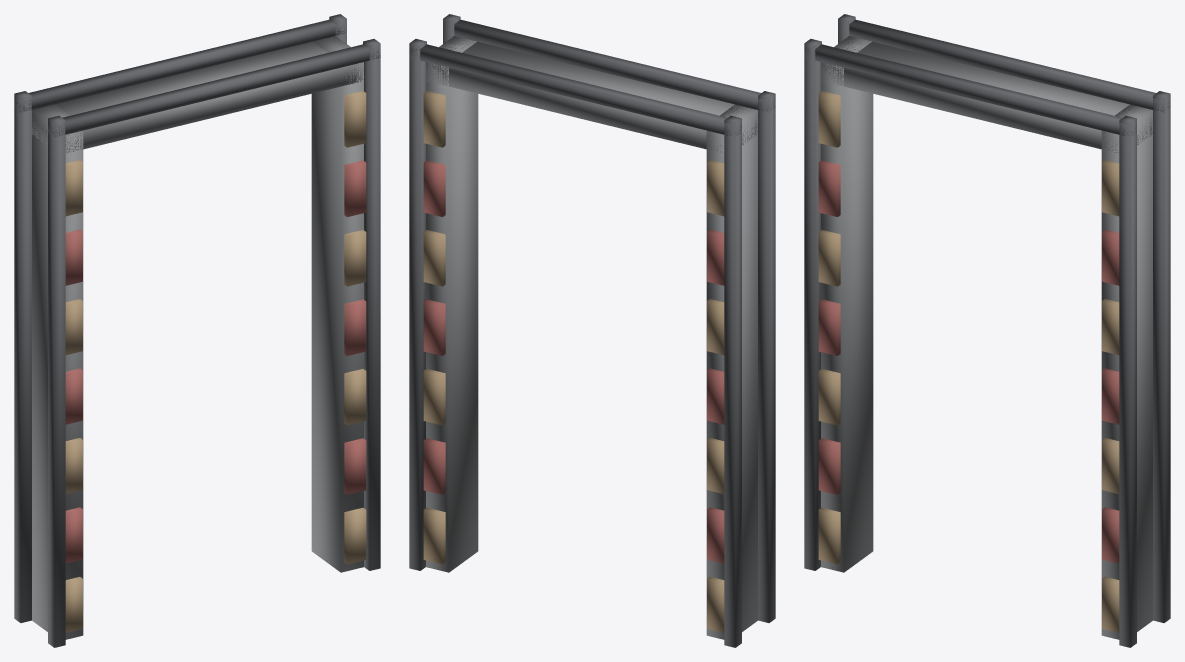
Rendered from doorway_brick_return_w122_h220_d24.glb.
3 renders of one model, left to right at view 1: azimuth 30°, elevation 25°; view 2: azimuth 150°, elevation 25°; view 3: azimuth 330°, elevation 25°, orthographic.
Visible parts, largest first — view 1: world; view 2: world; view 3: world.
Boxes of the visible parts, x1,y1,x2,y2 form: world: (14,14,380,647); world: (409,14,775,647); world: (804,14,1170,647).
Bounding box in the file's own units: 1.55 × 2.38 × 0.3296.
